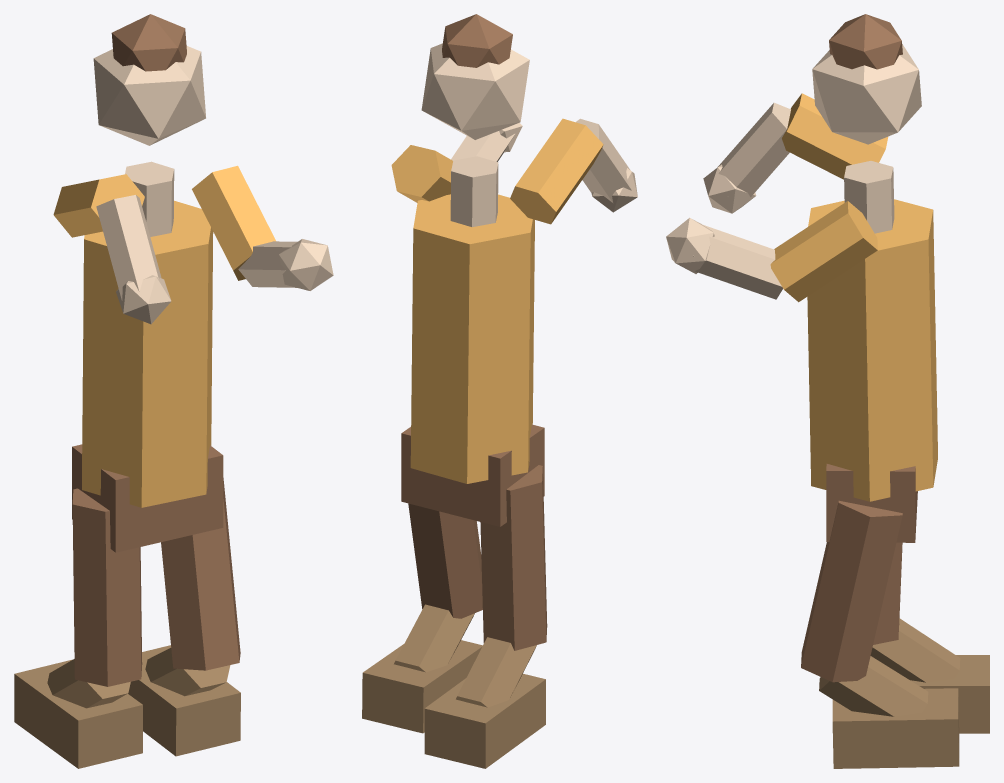
The model's file is pose_attack_1_26.glb.
3 views of the same model, side by side, from view 1: azimuth 30°, elevation 25°; view 2: azimuth 150°, elevation 25°; view 3: azimuth 270°, elevation 25° (orthographic). The views are drawn at different scales.
Visible parts, largest first — view 1: pose; view 2: pose; view 3: pose.
Boxes of the visible parts, bbox=[...] form: pose: bbox=[14, 14, 333, 768]; pose: bbox=[362, 14, 637, 768]; pose: bbox=[666, 14, 989, 768].
Size of the model in its own units: 0.4149 by 1.52 by 0.6183.
